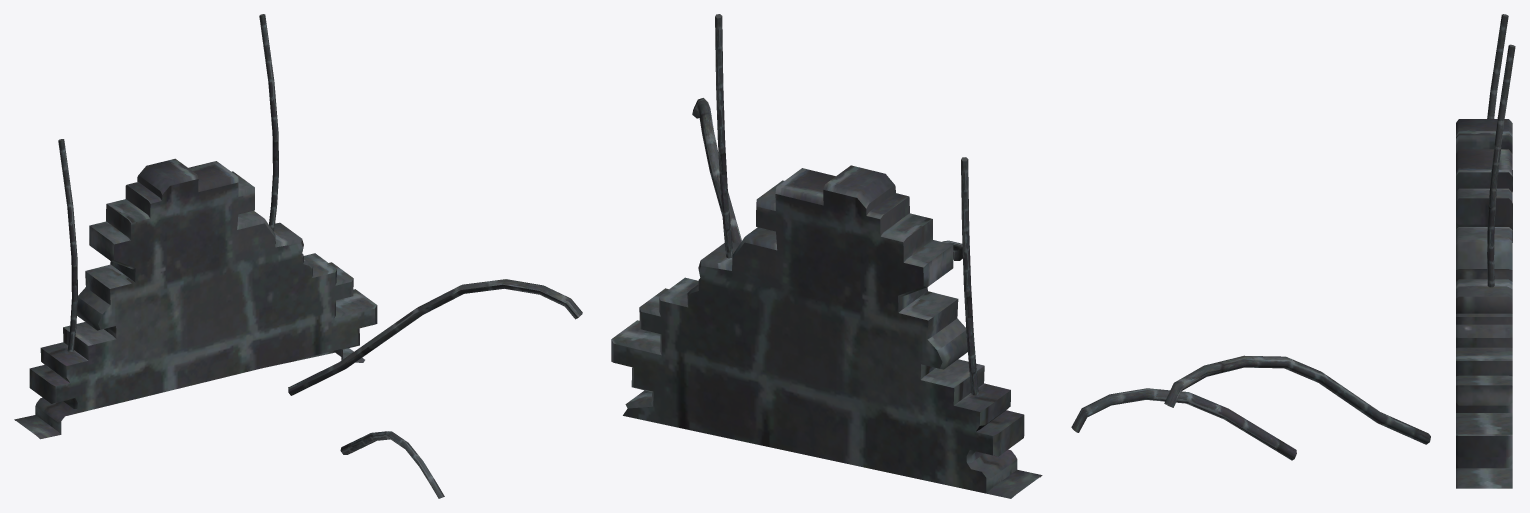
Rendered from ruiny3.FBX.
3 renders of one model, left to right at view 1: azimuth 30°, elevation 25°; view 2: azimuth 150°, elevation 25°; view 3: azimuth 270°, elevation 25°, orthographic. The views are drawn at different scales.
Parts seen in each view (by area): view 1: Object002; view 2: Object002; view 3: Object002.
Part boxes in pixels (left/top/right/bottom): Object002: left=14, top=14, right=582, bottom=498; Object002: left=611, top=14, right=1042, bottom=498; Object002: left=1071, top=14, right=1515, bottom=488.
Size of the model in its own units: 12.26 by 9.78 by 10.25.
Materials: 1 (1 with a texture image).
